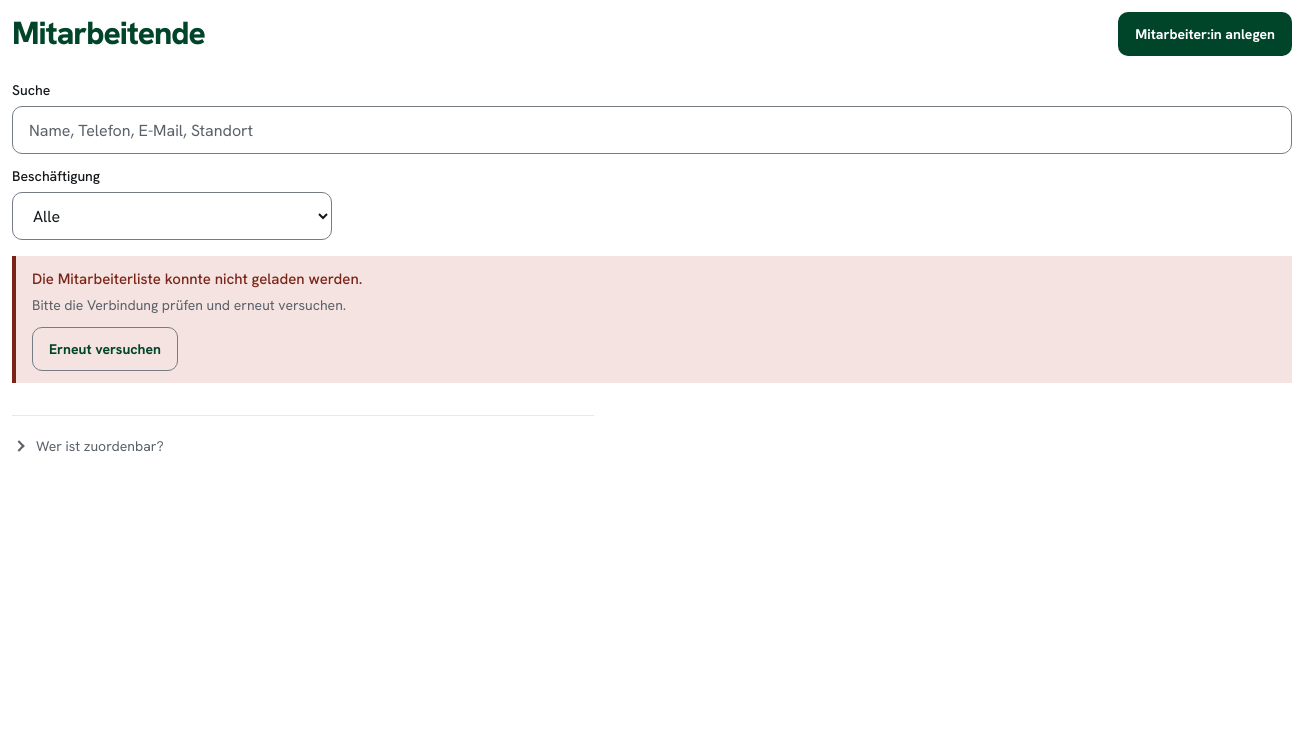
StaffListPage › meldet einen Ladefehler verstaendlich und bietet einen neuen Versuch an
The width and height of the screenshot is (1304, 732).
Check: the message shows "Die Mitarbeiterliste konnte nicht geladen werden.", box [32,269,362,289]
Check: the message does not show "angemeldet", box [12,256,1292,382]
Step 1. Click the button "Erneut versuchen" → {"x": 105, "y": 348}, box [32,326,178,370]
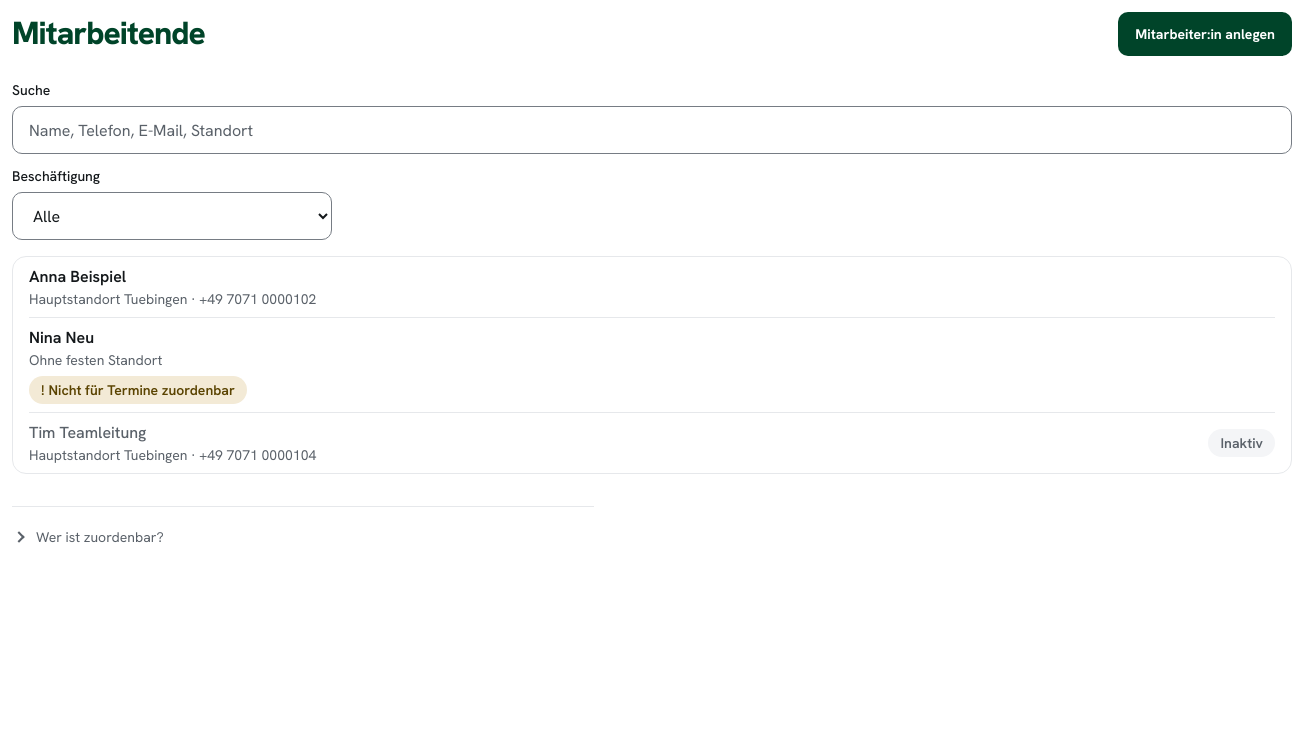
Check: the link "Anna Beispiel Hauptstandort Tuebingen · +49 7071 0000102" is shown, box [29,266,316,308]
